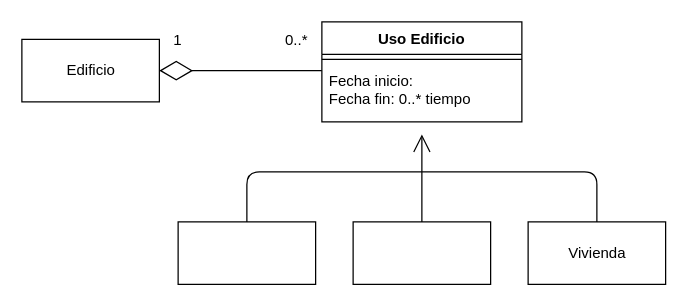
This 688x306 diagram has some shape labels left out. Each missing label, with the centre of its shape:
Escuela: the point at 421,252
Hospital: the point at 246,252
